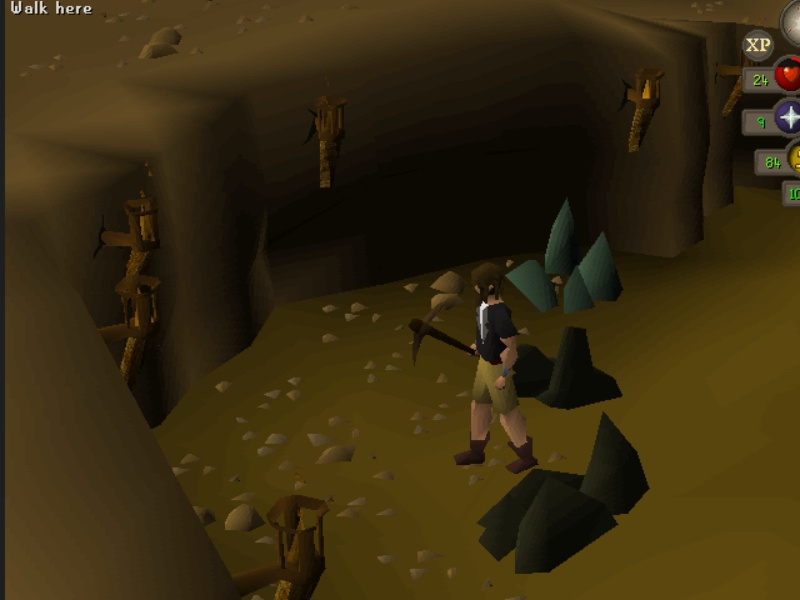adamant: (499, 192, 626, 317)
coal: (471, 409, 655, 582), (494, 322, 627, 412)
